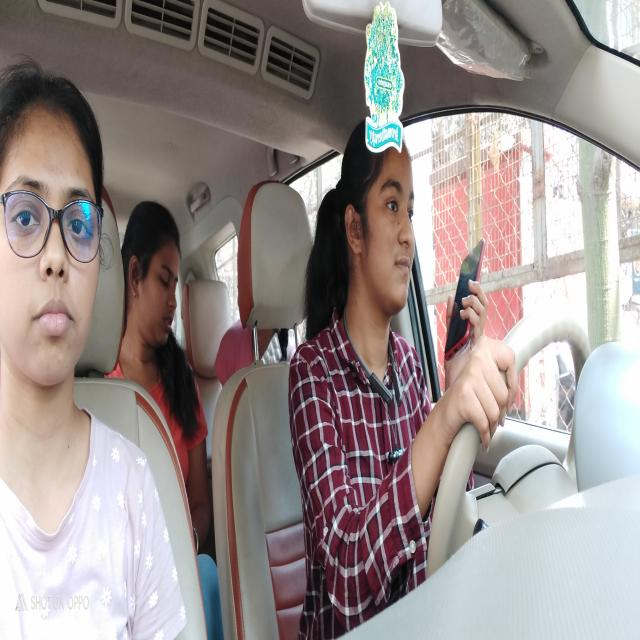mobile: (439, 236, 495, 376)
person: (0, 58, 113, 407), (340, 108, 425, 338), (127, 186, 187, 371)
